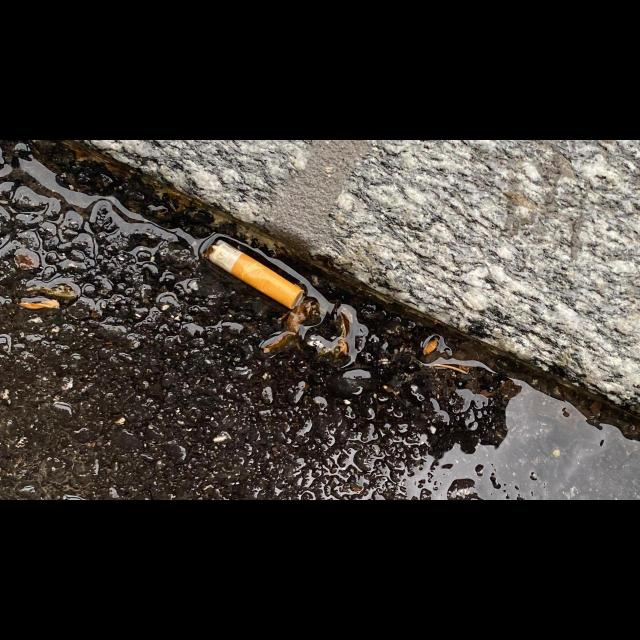cigarette: (202, 239, 304, 310)
